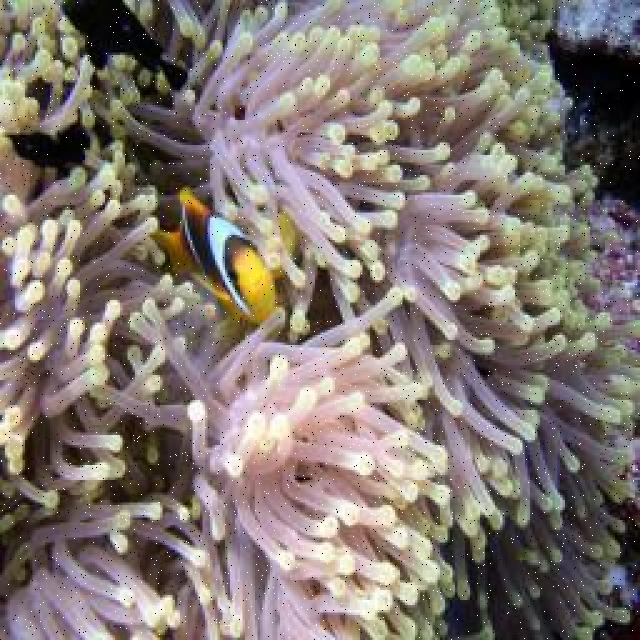fish: (146, 184, 301, 322), (60, 1, 190, 95), (3, 130, 75, 170)
